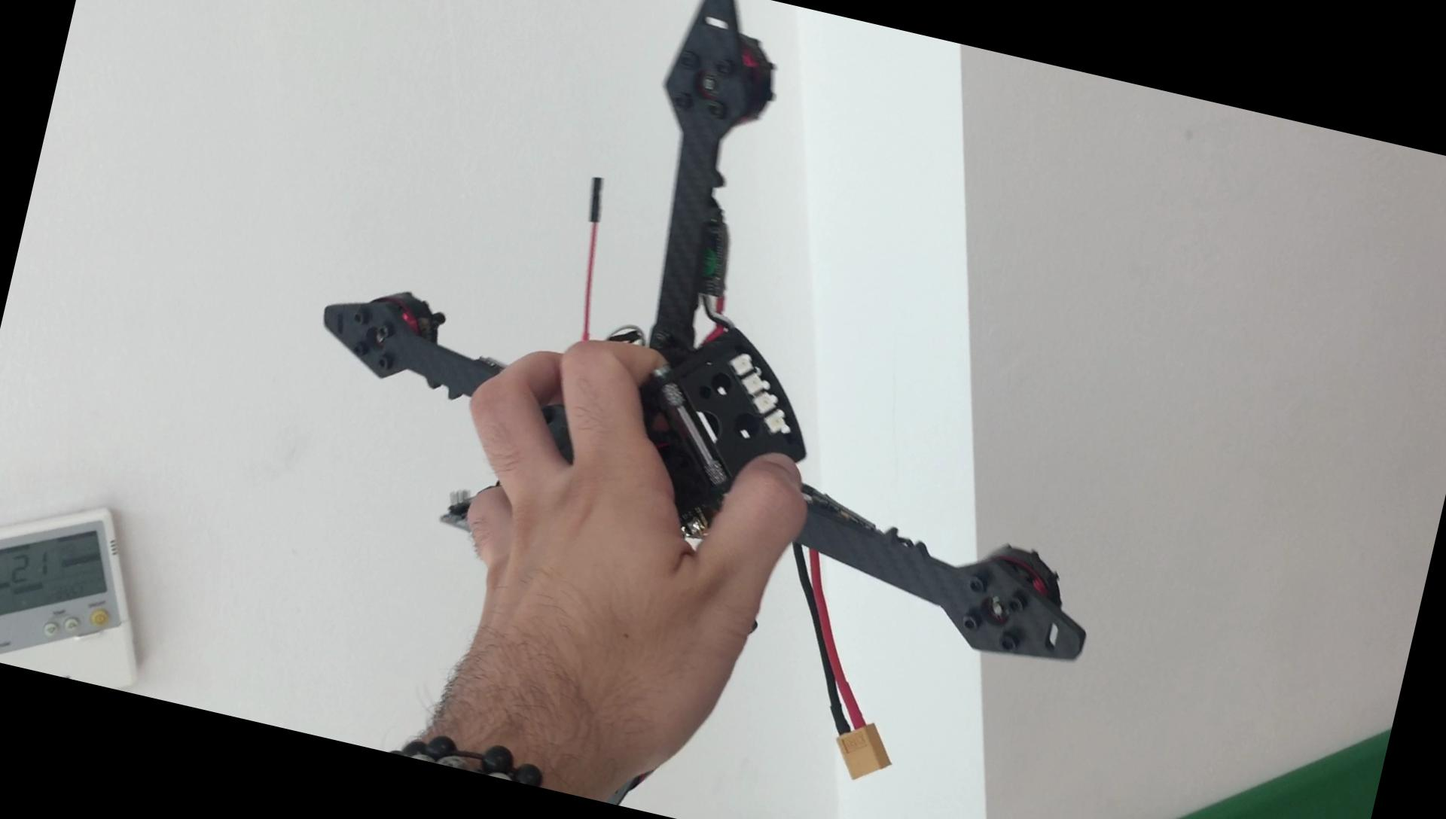drone: (200, 0, 1215, 809)
